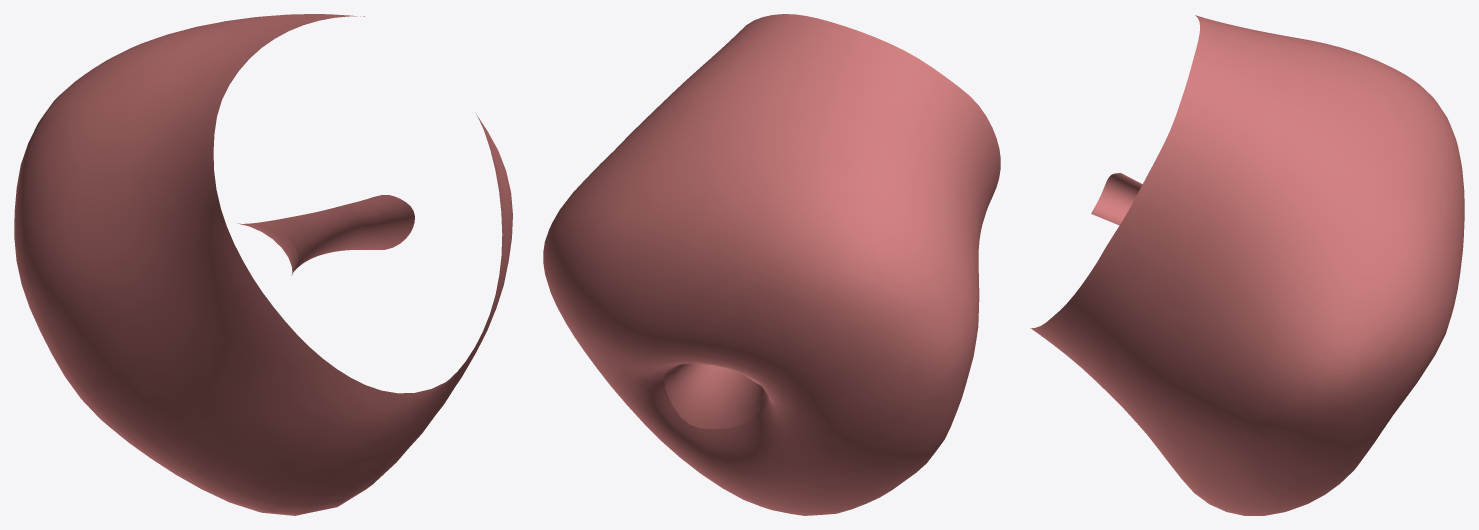
File: cervix.glb
The picture shows the model from 3 angles, left to right: view 1: azimuth 30°, elevation 25°; view 2: azimuth 150°, elevation 25°; view 3: azimuth 270°, elevation 25°; orthographic projection. The views are drawn at different scales.
Visible parts, largest first — view 1: VH_F_cervix, VH_F_internal_cervical_os, VH_F_external_cervical_os; view 2: VH_F_cervix, VH_F_external_cervical_os; view 3: VH_F_cervix, VH_F_internal_cervical_os.
Part boxes in pixels (box(x1,y1,x2,y2)): VH_F_cervix: box(14, 14, 512, 515); VH_F_internal_cervical_os: box(356, 195, 414, 249); VH_F_external_cervical_os: box(237, 223, 297, 275); VH_F_cervix: box(543, 14, 1000, 515); VH_F_external_cervical_os: box(664, 363, 769, 428); VH_F_cervix: box(1030, 15, 1464, 515); VH_F_internal_cervical_os: box(1091, 173, 1142, 225).
Bounding box in the file's own units: 0.0273 × 0.0289 × 0.0243.
